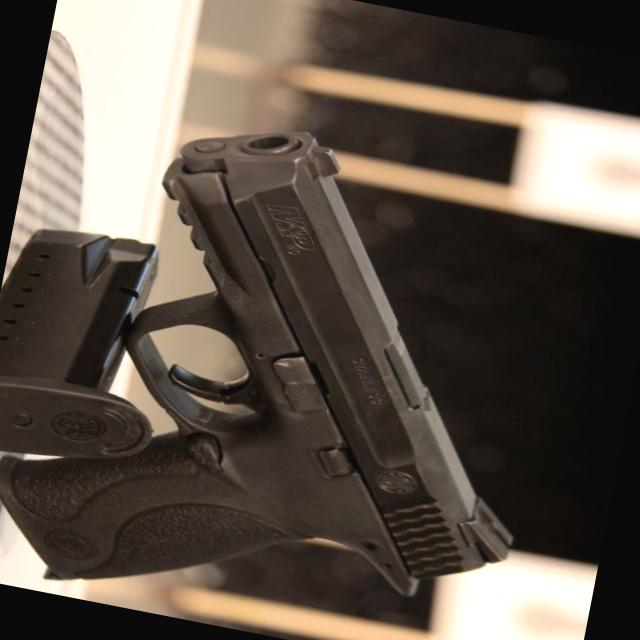handgun: (0, 89, 623, 639)
